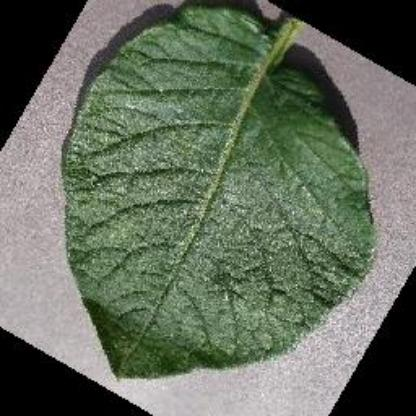Healthy-plant: (53, 7, 393, 400)
